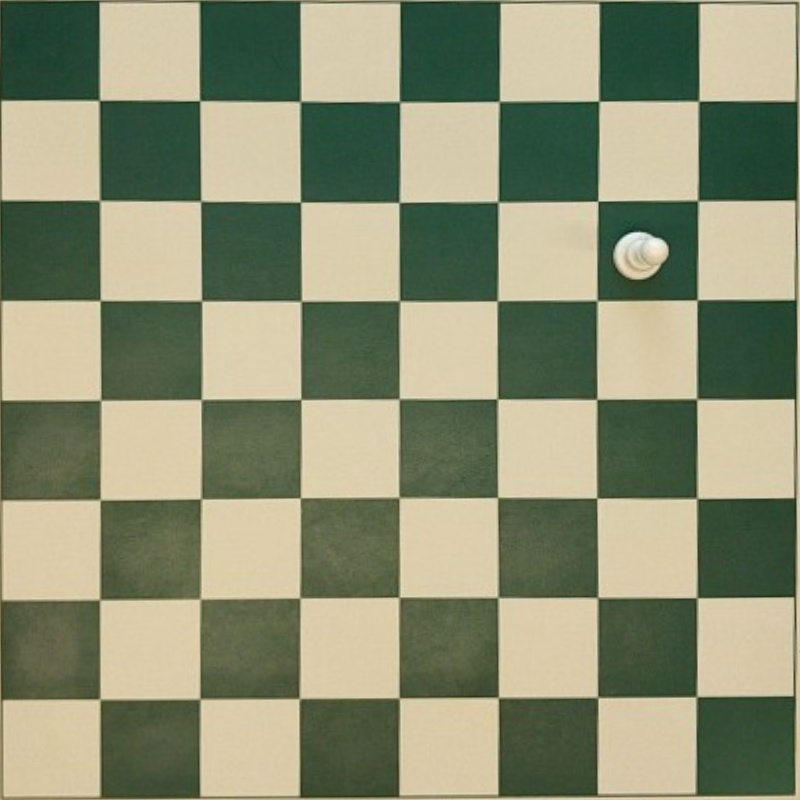white-pawn: (613, 229, 670, 281)
